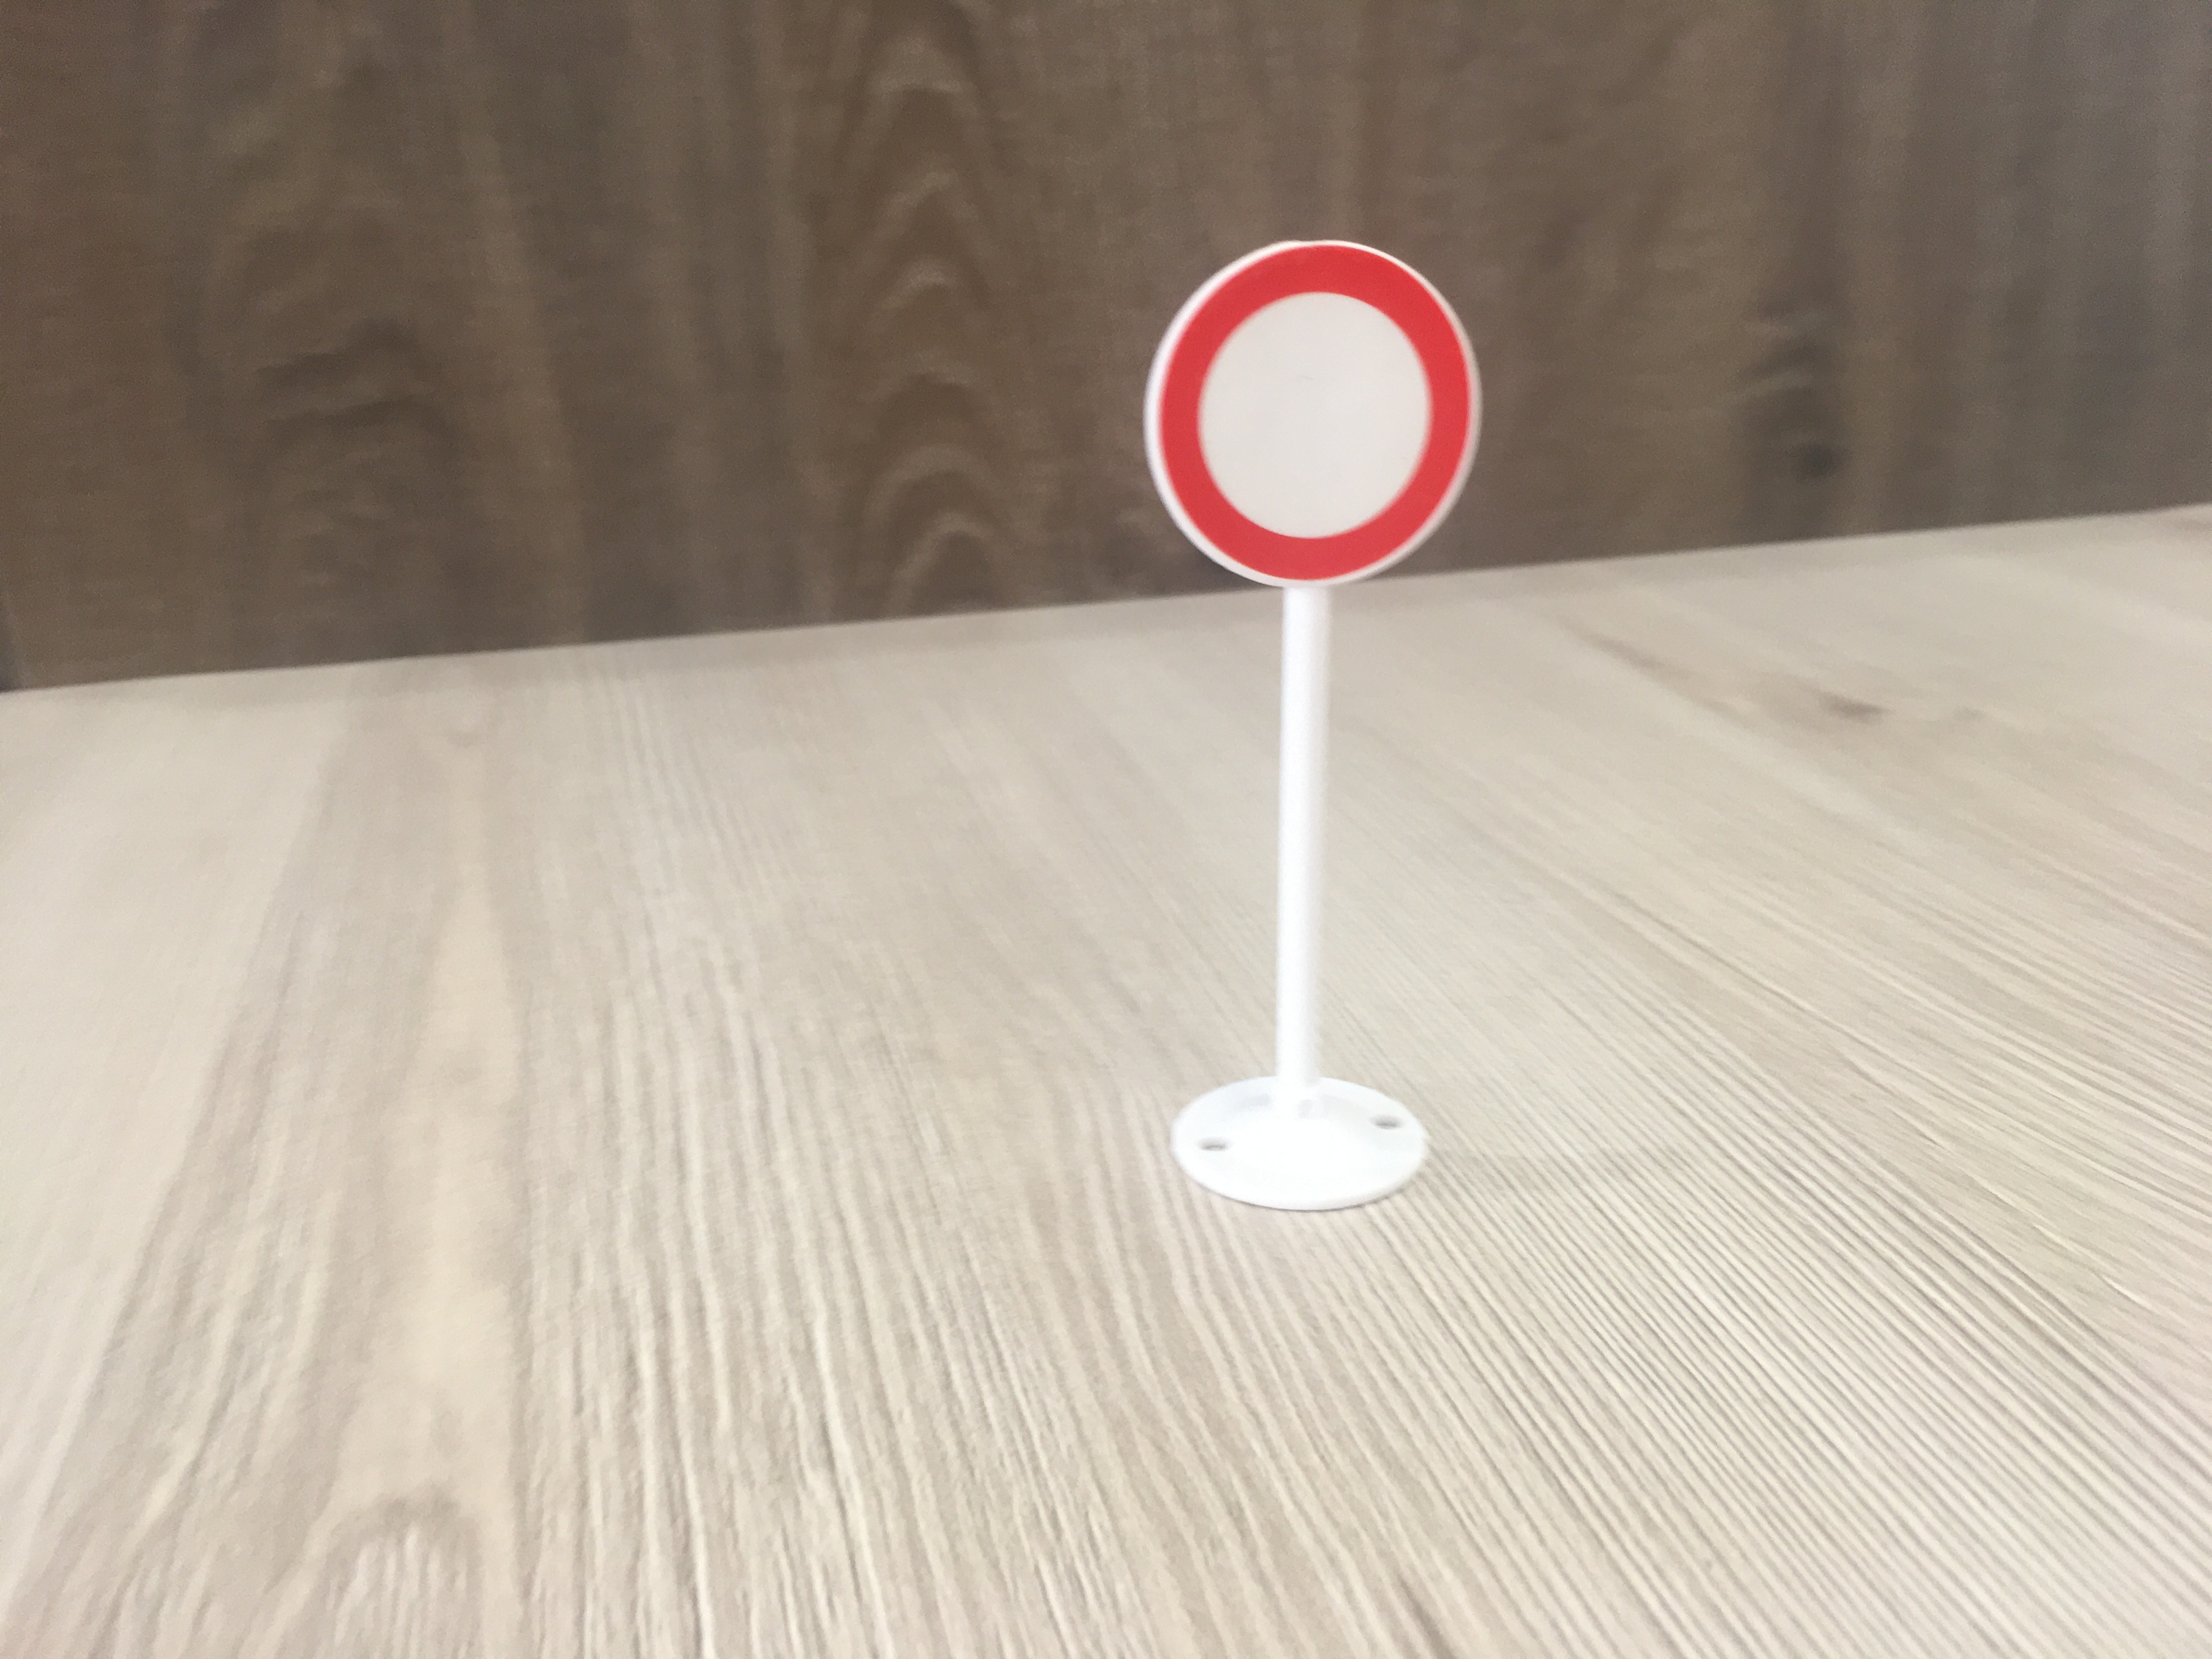noDrive: (1130, 240, 1498, 598)
